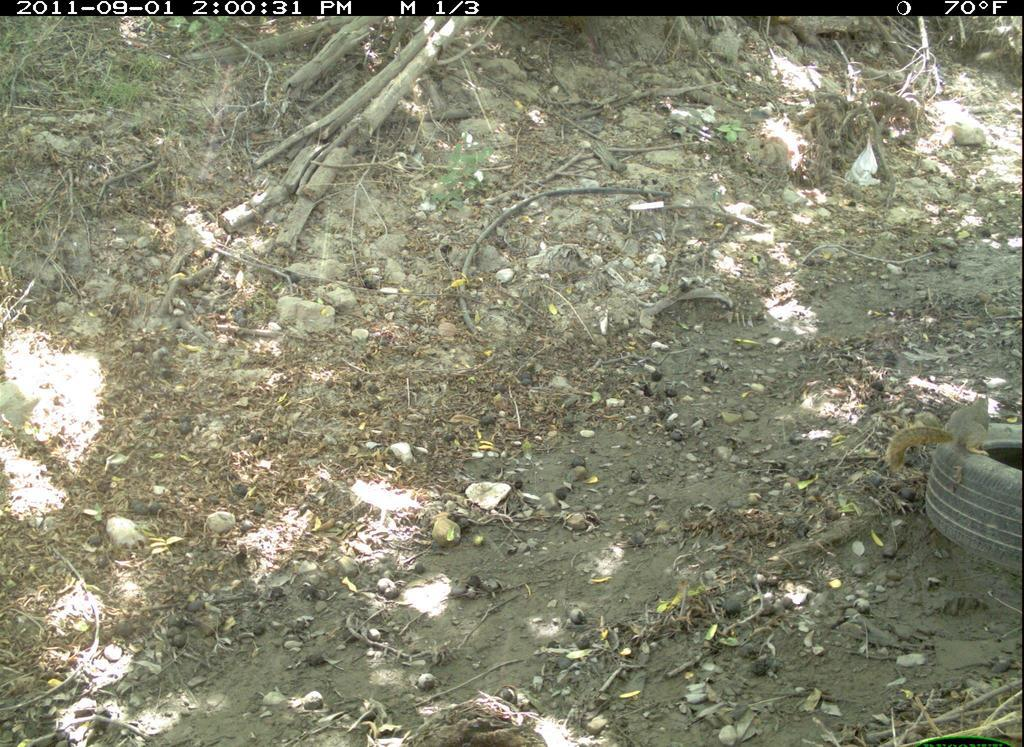squirrel: (880, 388, 1004, 481)
